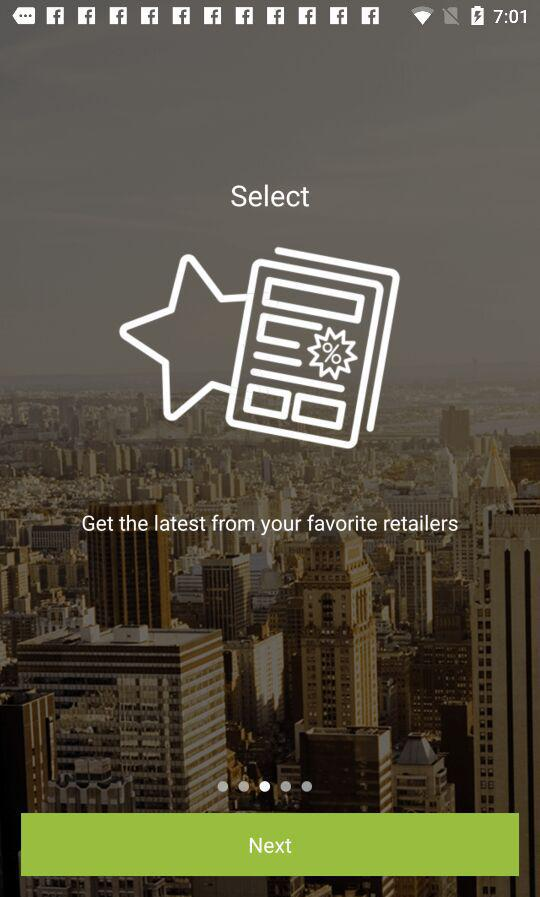BackgroundImage: (1, 29, 540, 897)
Image: (119, 247, 401, 451)
PageIndicator: (217, 780, 314, 793)
Text: (82, 514, 459, 536), (231, 184, 311, 210)
TextButton: (21, 812, 520, 877)
UpperTaskBar: (1, 1, 540, 29)
